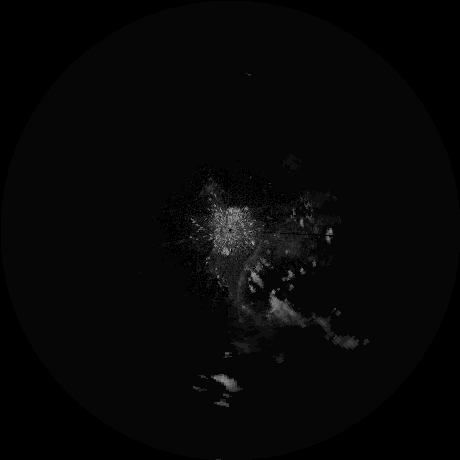frontgust: (237, 239, 264, 302)
